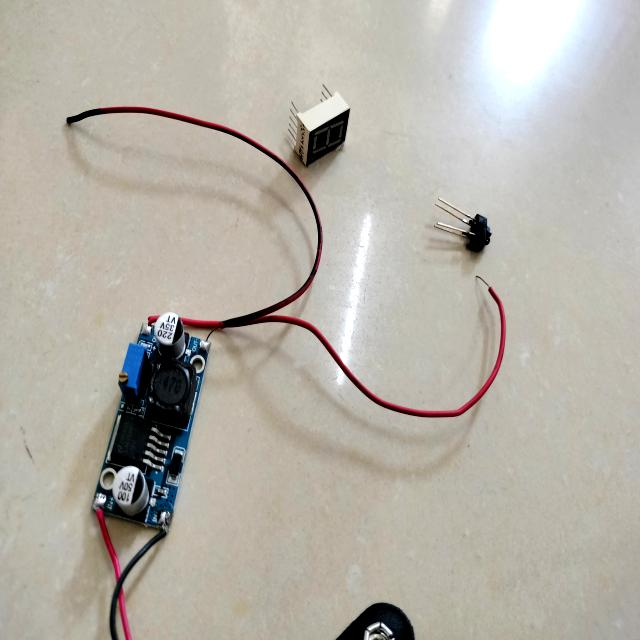7-Segment-Display: (280, 80, 359, 168)
Buck-Converter: (86, 292, 224, 550)
TCRT5000: (423, 184, 499, 269)
